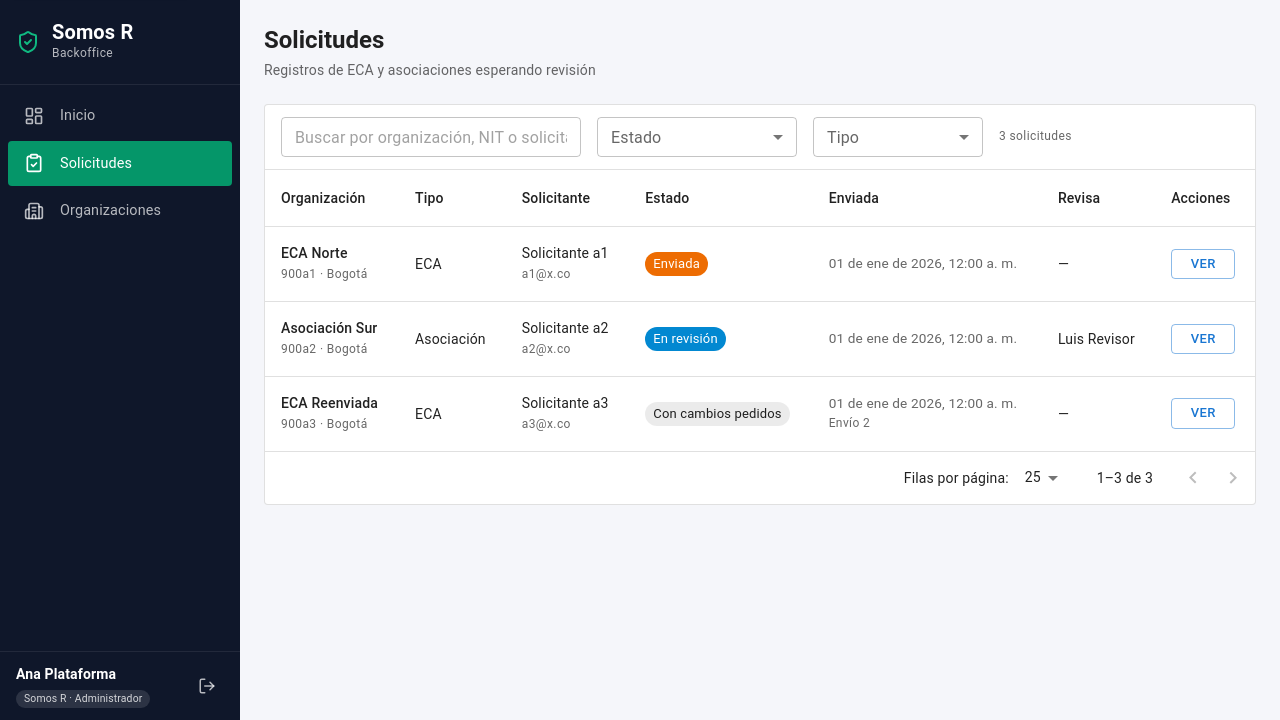
Test: application detail › shows the organization, who applies, consent and earlier decisions
Click the button "Ver" in the row of "ECA Reenviada": (1203, 414) top-left (1171, 398), bottom-right (1235, 429)
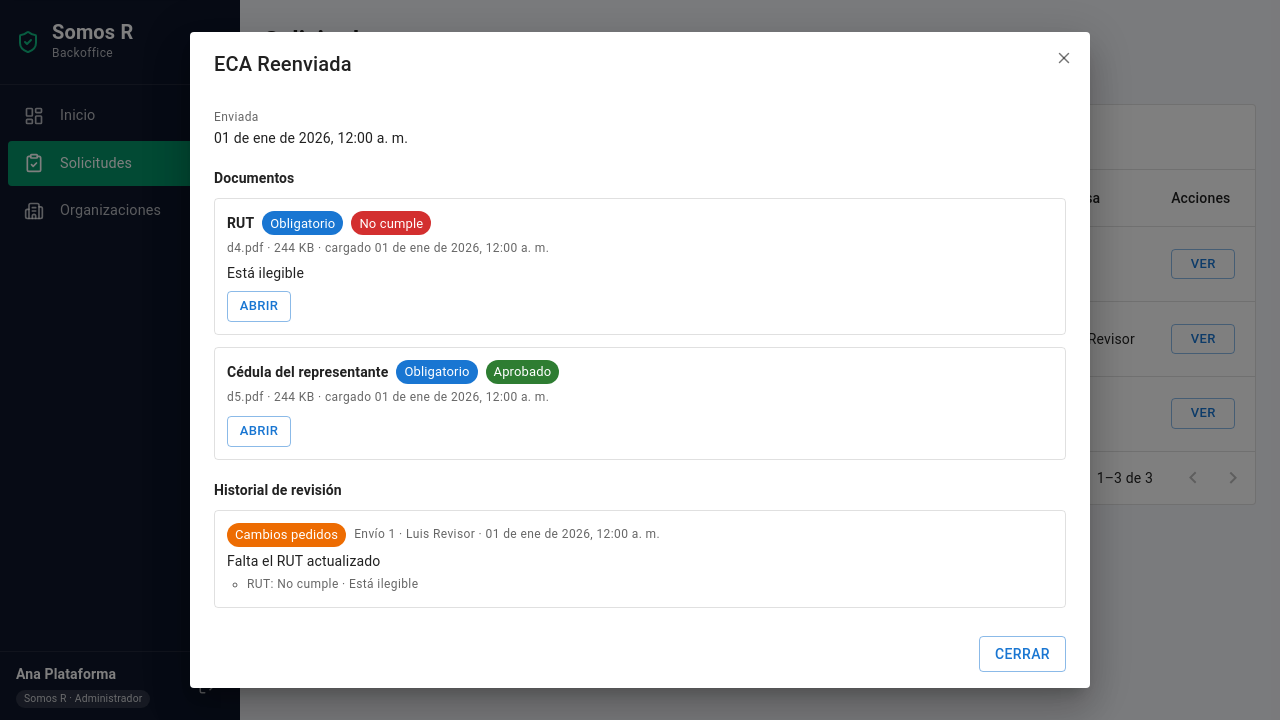
Now the text "Falta el RUT actualizado" is shown, box top-left (227, 553), bottom-right (380, 569)
Now the text "Cambios pedidos" is shown, box top-left (227, 525), bottom-right (346, 544)
